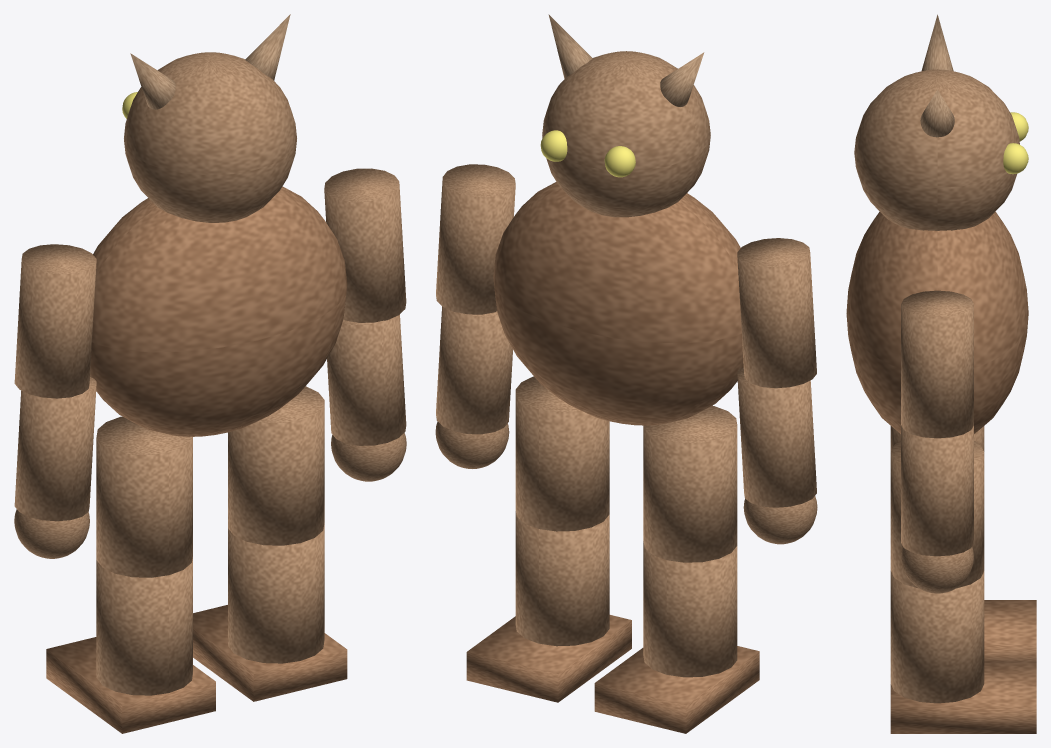
File: contract-devil.glb
3 views of the same model, side by side, from view 1: azimuth 30°, elevation 25°; view 2: azimuth 150°, elevation 25°; view 3: azimuth 270°, elevation 25° (orthographic). The views are drawn at different scales.
Parts seen in each view (by area): view 1: Torso, Head, ThighL, ThighR, ShinR, ShinL, UpperArmL, UpperArmR, ForearmL, ForearmR, FootL, FootR (+4 smaller); view 2: Torso, Head, ThighL, ThighR, ShinL, ShinR, UpperArmL, UpperArmR, ForearmL, ForearmR, FootR, FootL (+6 smaller); view 3: Torso, Head, ShinR, UpperArmR, ForearmR, FootR, FootL, ThighR, HandR, Horn.001, Horn, Eye.001 (+1 smaller).
Part boxes in pixels (x1=…): Torso: x1=90, y1=186, x2=347, y2=436; Head: x1=124, y1=52, x2=296, y2=222; ThighL: x1=96, y1=416, x2=192, y2=577; ThighR: x1=228, y1=386, x2=324, y2=545; ShinR: x1=228, y1=523, x2=324, y2=663; ShinL: x1=96, y1=557, x2=192, y2=695; UpperArmL: x1=14, y1=244, x2=96, y2=398; UpperArmR: x1=324, y1=168, x2=406, y2=322; ForearmL: x1=14, y1=377, x2=96, y2=521; ForearmR: x1=327, y1=314, x2=406, y2=445; FootL: x1=46, y1=637, x2=215, y2=733; FootR: x1=193, y1=605, x2=347, y2=701; Torso: x1=493, y1=182, x2=743, y2=425; Head: x1=542, y1=51, x2=710, y2=217; ThighL: x1=643, y1=405, x2=737, y2=562; ThighR: x1=515, y1=376, x2=609, y2=531; ShinL: x1=643, y1=541, x2=737, y2=677; ShinR: x1=515, y1=511, x2=609, y2=646; UpperArmL: x1=737, y1=238, x2=816, y2=388; UpperArmR: x1=436, y1=164, x2=515, y2=314; ForearmL: x1=737, y1=367, x2=816, y2=507; ForearmR: x1=436, y1=306, x2=512, y2=434; FootR: x1=466, y1=615, x2=631, y2=702; FootL: x1=594, y1=646, x2=759, y2=733; Torso: x1=846, y1=211, x2=1028, y2=433; Head: x1=854, y1=69, x2=1019, y2=230; ShinR: x1=890, y1=571, x2=984, y2=703; UpperArmR: x1=901, y1=290, x2=973, y2=438; ForearmR: x1=901, y1=425, x2=973, y2=556; FootR: x1=890, y1=661, x2=1036, y2=733; FootL: x1=984, y1=600, x2=1036, y2=661; ThighR: x1=890, y1=441, x2=984, y2=588; HandR: x1=901, y1=547, x2=973, y2=593; Horn.001: x1=920, y1=89, x2=954, y2=137; Horn: x1=921, y1=14, x2=953, y2=71; Eye.001: x1=1003, y1=143, x2=1028, y2=174.
Size of the model in its own units: 0.5982 by 0.9793 by 0.2679.
Materials: 4 (3 with a texture image).
